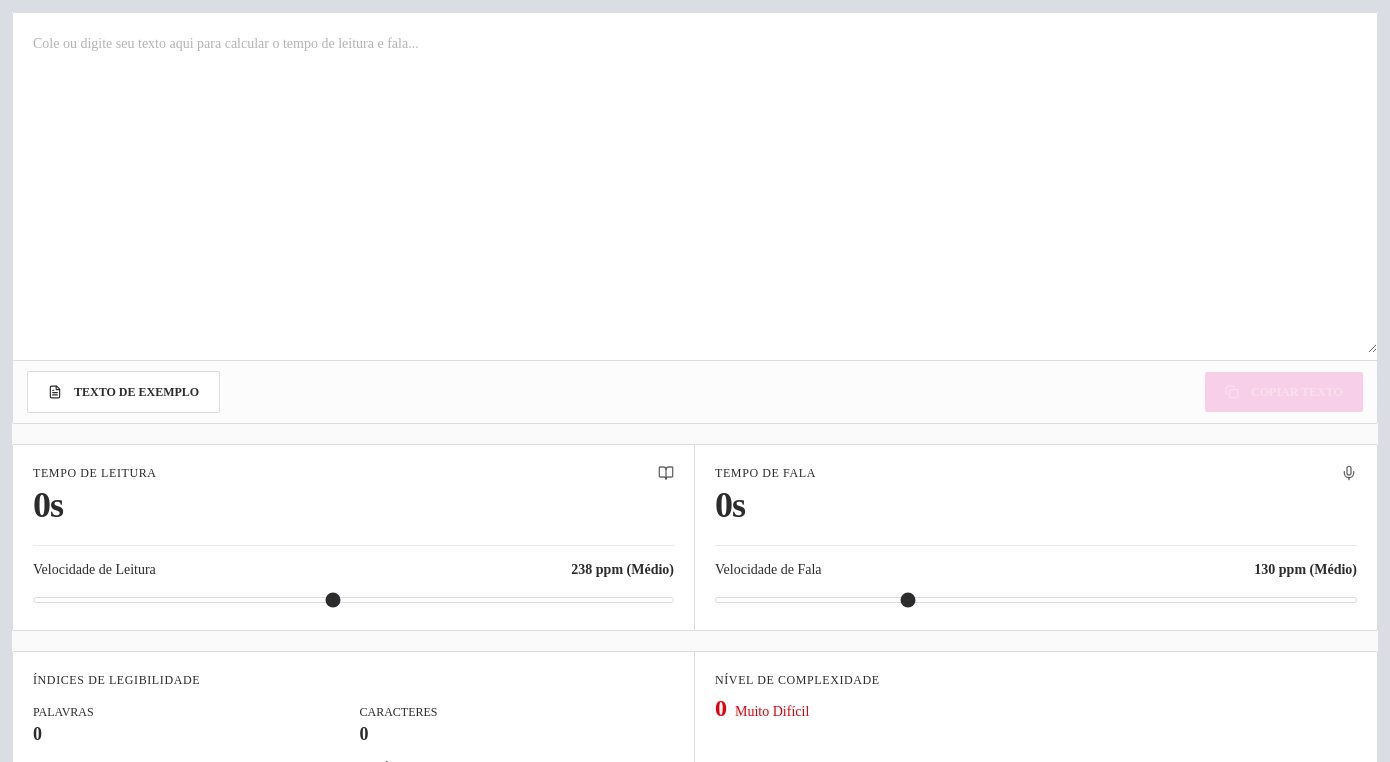
Scenario: Text Tools Suite › ReadingTimeClient › activates speed reader button when text is present
Replace the text in the text box with "Exemplo para speed reading." at point(695, 183), box [13,13,1377,353]
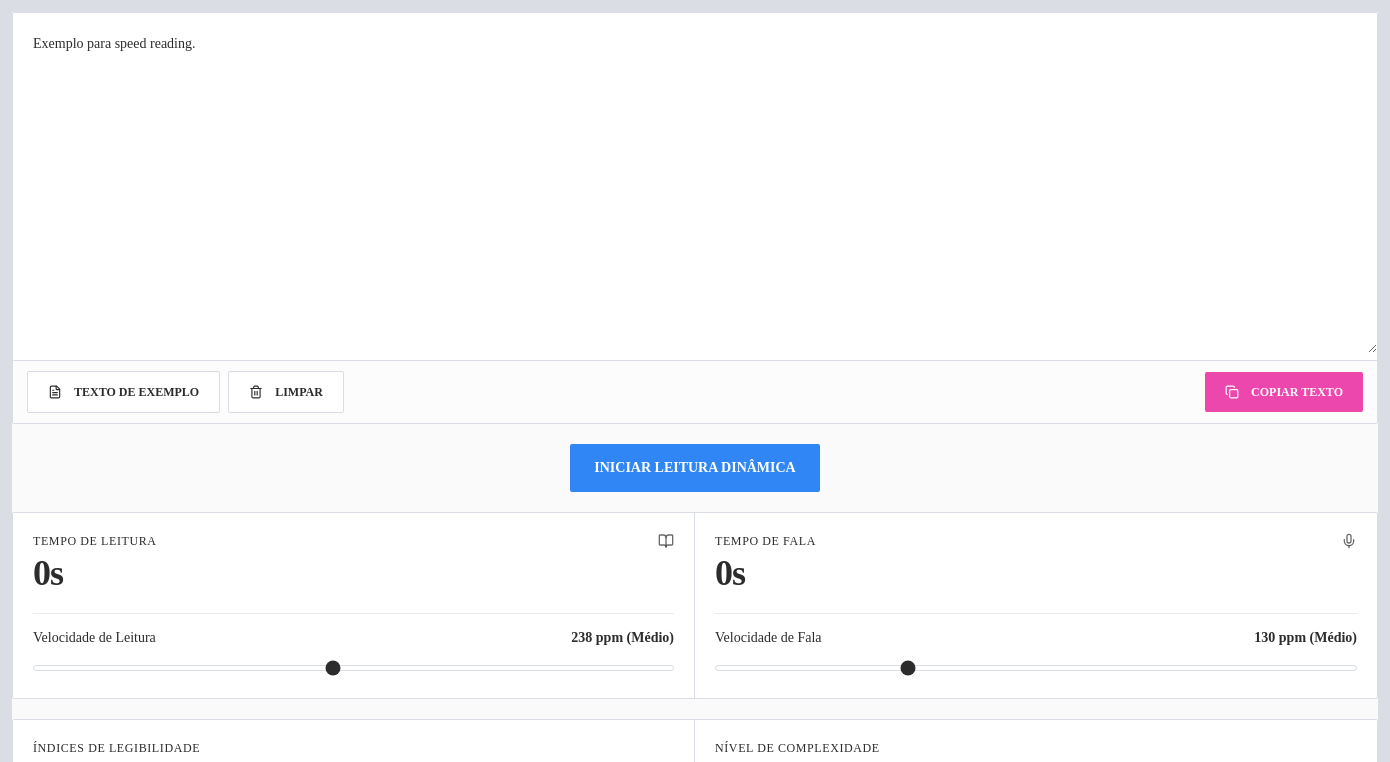
Check: the text "Iniciar Leitura Dinâmica" is shown, box [594,458,796,478]
Click the button "Iniciar Leitura Dinâmica" at point(695, 468), box [570,444,820,492]
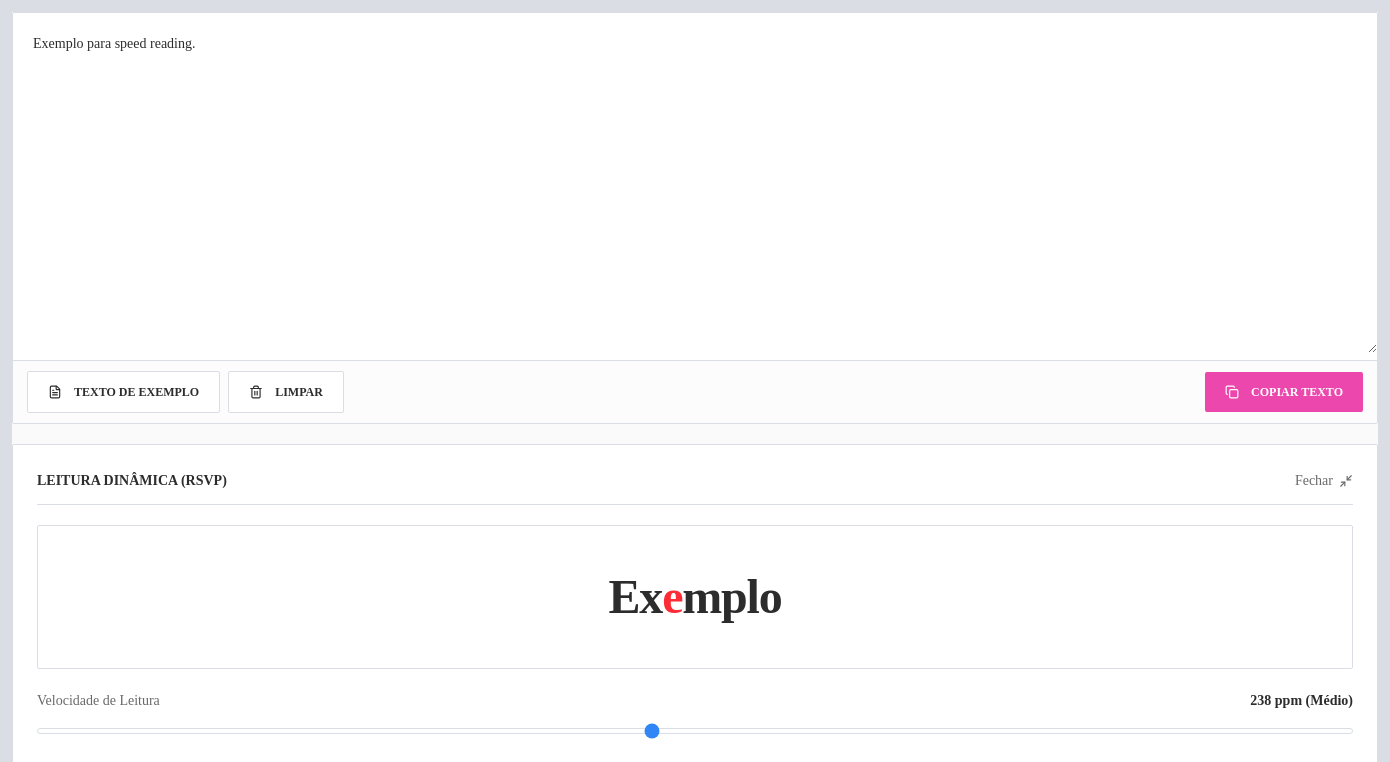
Check: the text "Leitura Dinâmica (RSVP)" is shown, box [37,469,227,492]
